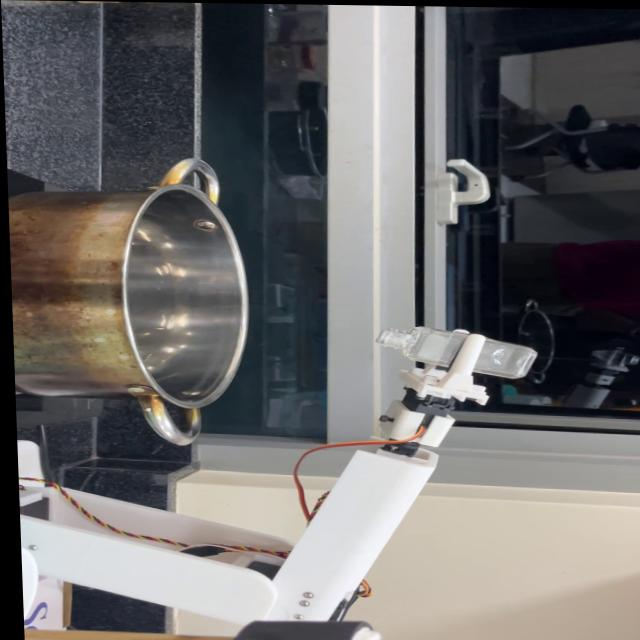cooking_pot: (4, 152, 244, 440)
